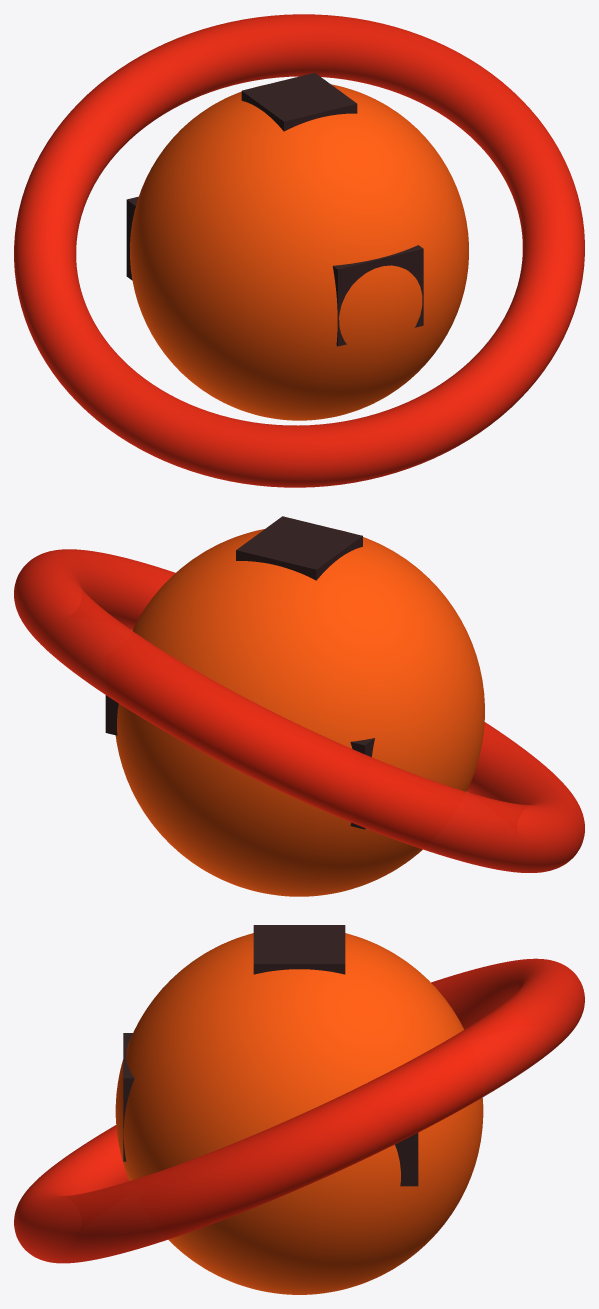
The model's file is lav.glb.
3 views of the same model, one above another, from view 1: azimuth 30°, elevation 25°; view 2: azimuth 150°, elevation 25°; view 3: azimuth 270°, elevation 25° (orthographic). The views are drawn at different scales.
Bounding box in the file's own units: 0.0392 × 0.024 × 0.0373.
